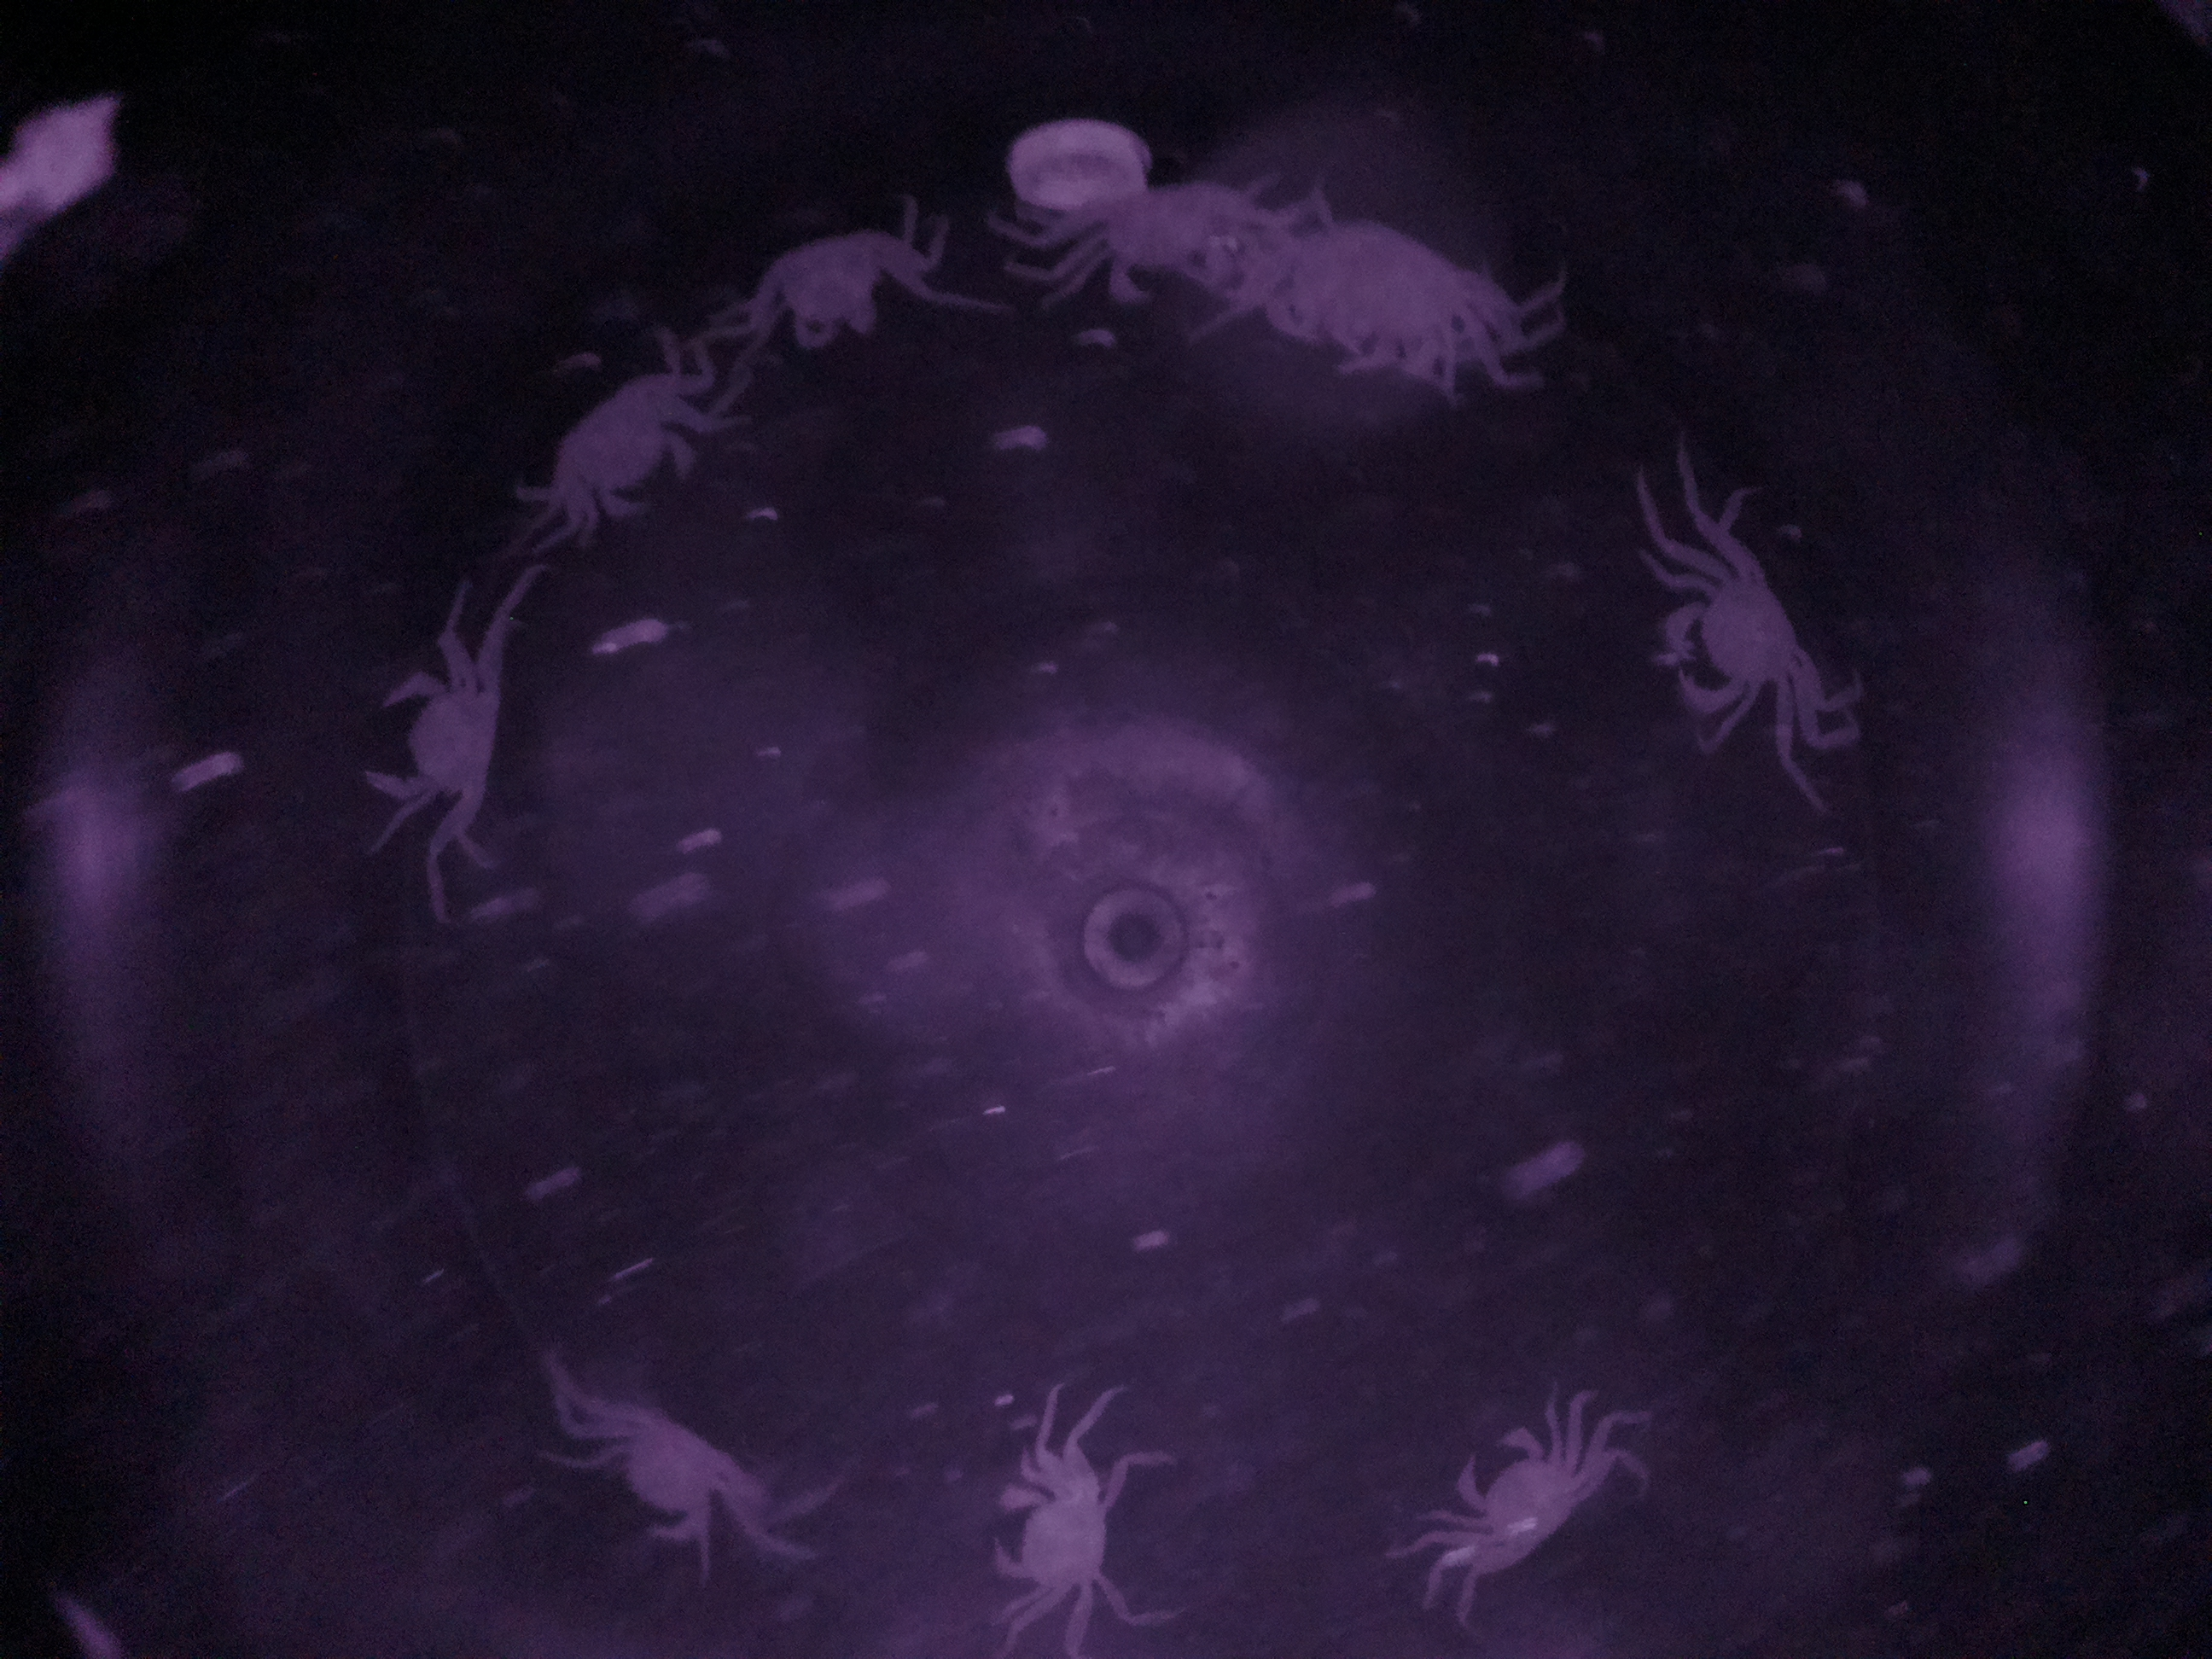Crab: (340, 640, 535, 842), (1639, 540, 1827, 748), (540, 350, 712, 554), (1426, 1424, 1641, 1586), (981, 1434, 1144, 1645)
